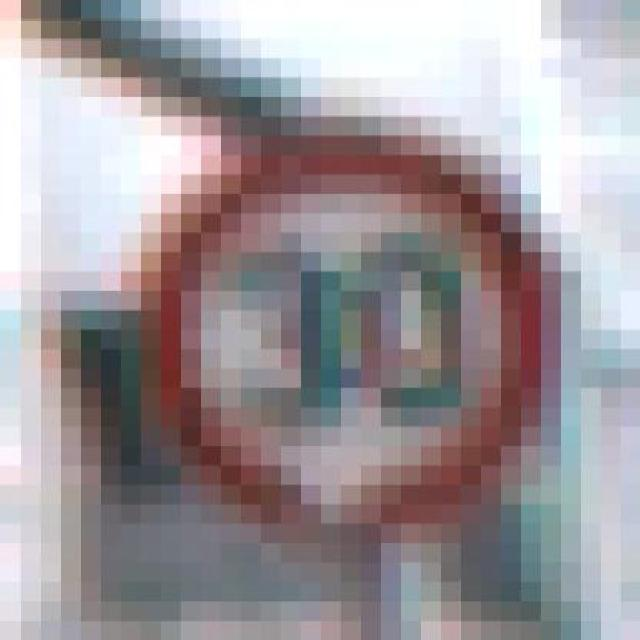Speed Limit 30 KMPh: (80, 116, 600, 562)
